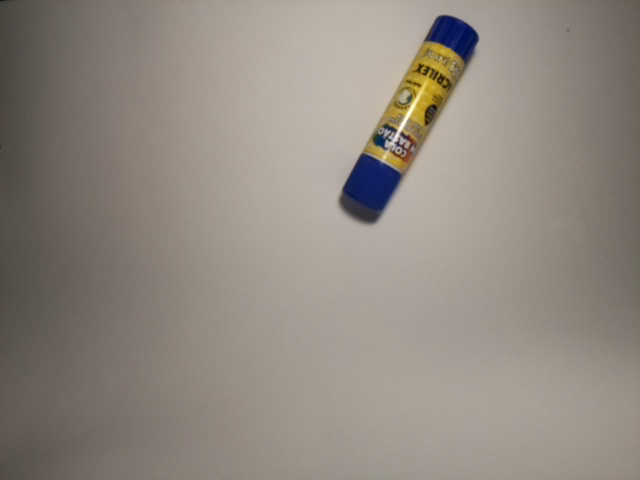Cola: (293, 5, 477, 224)
